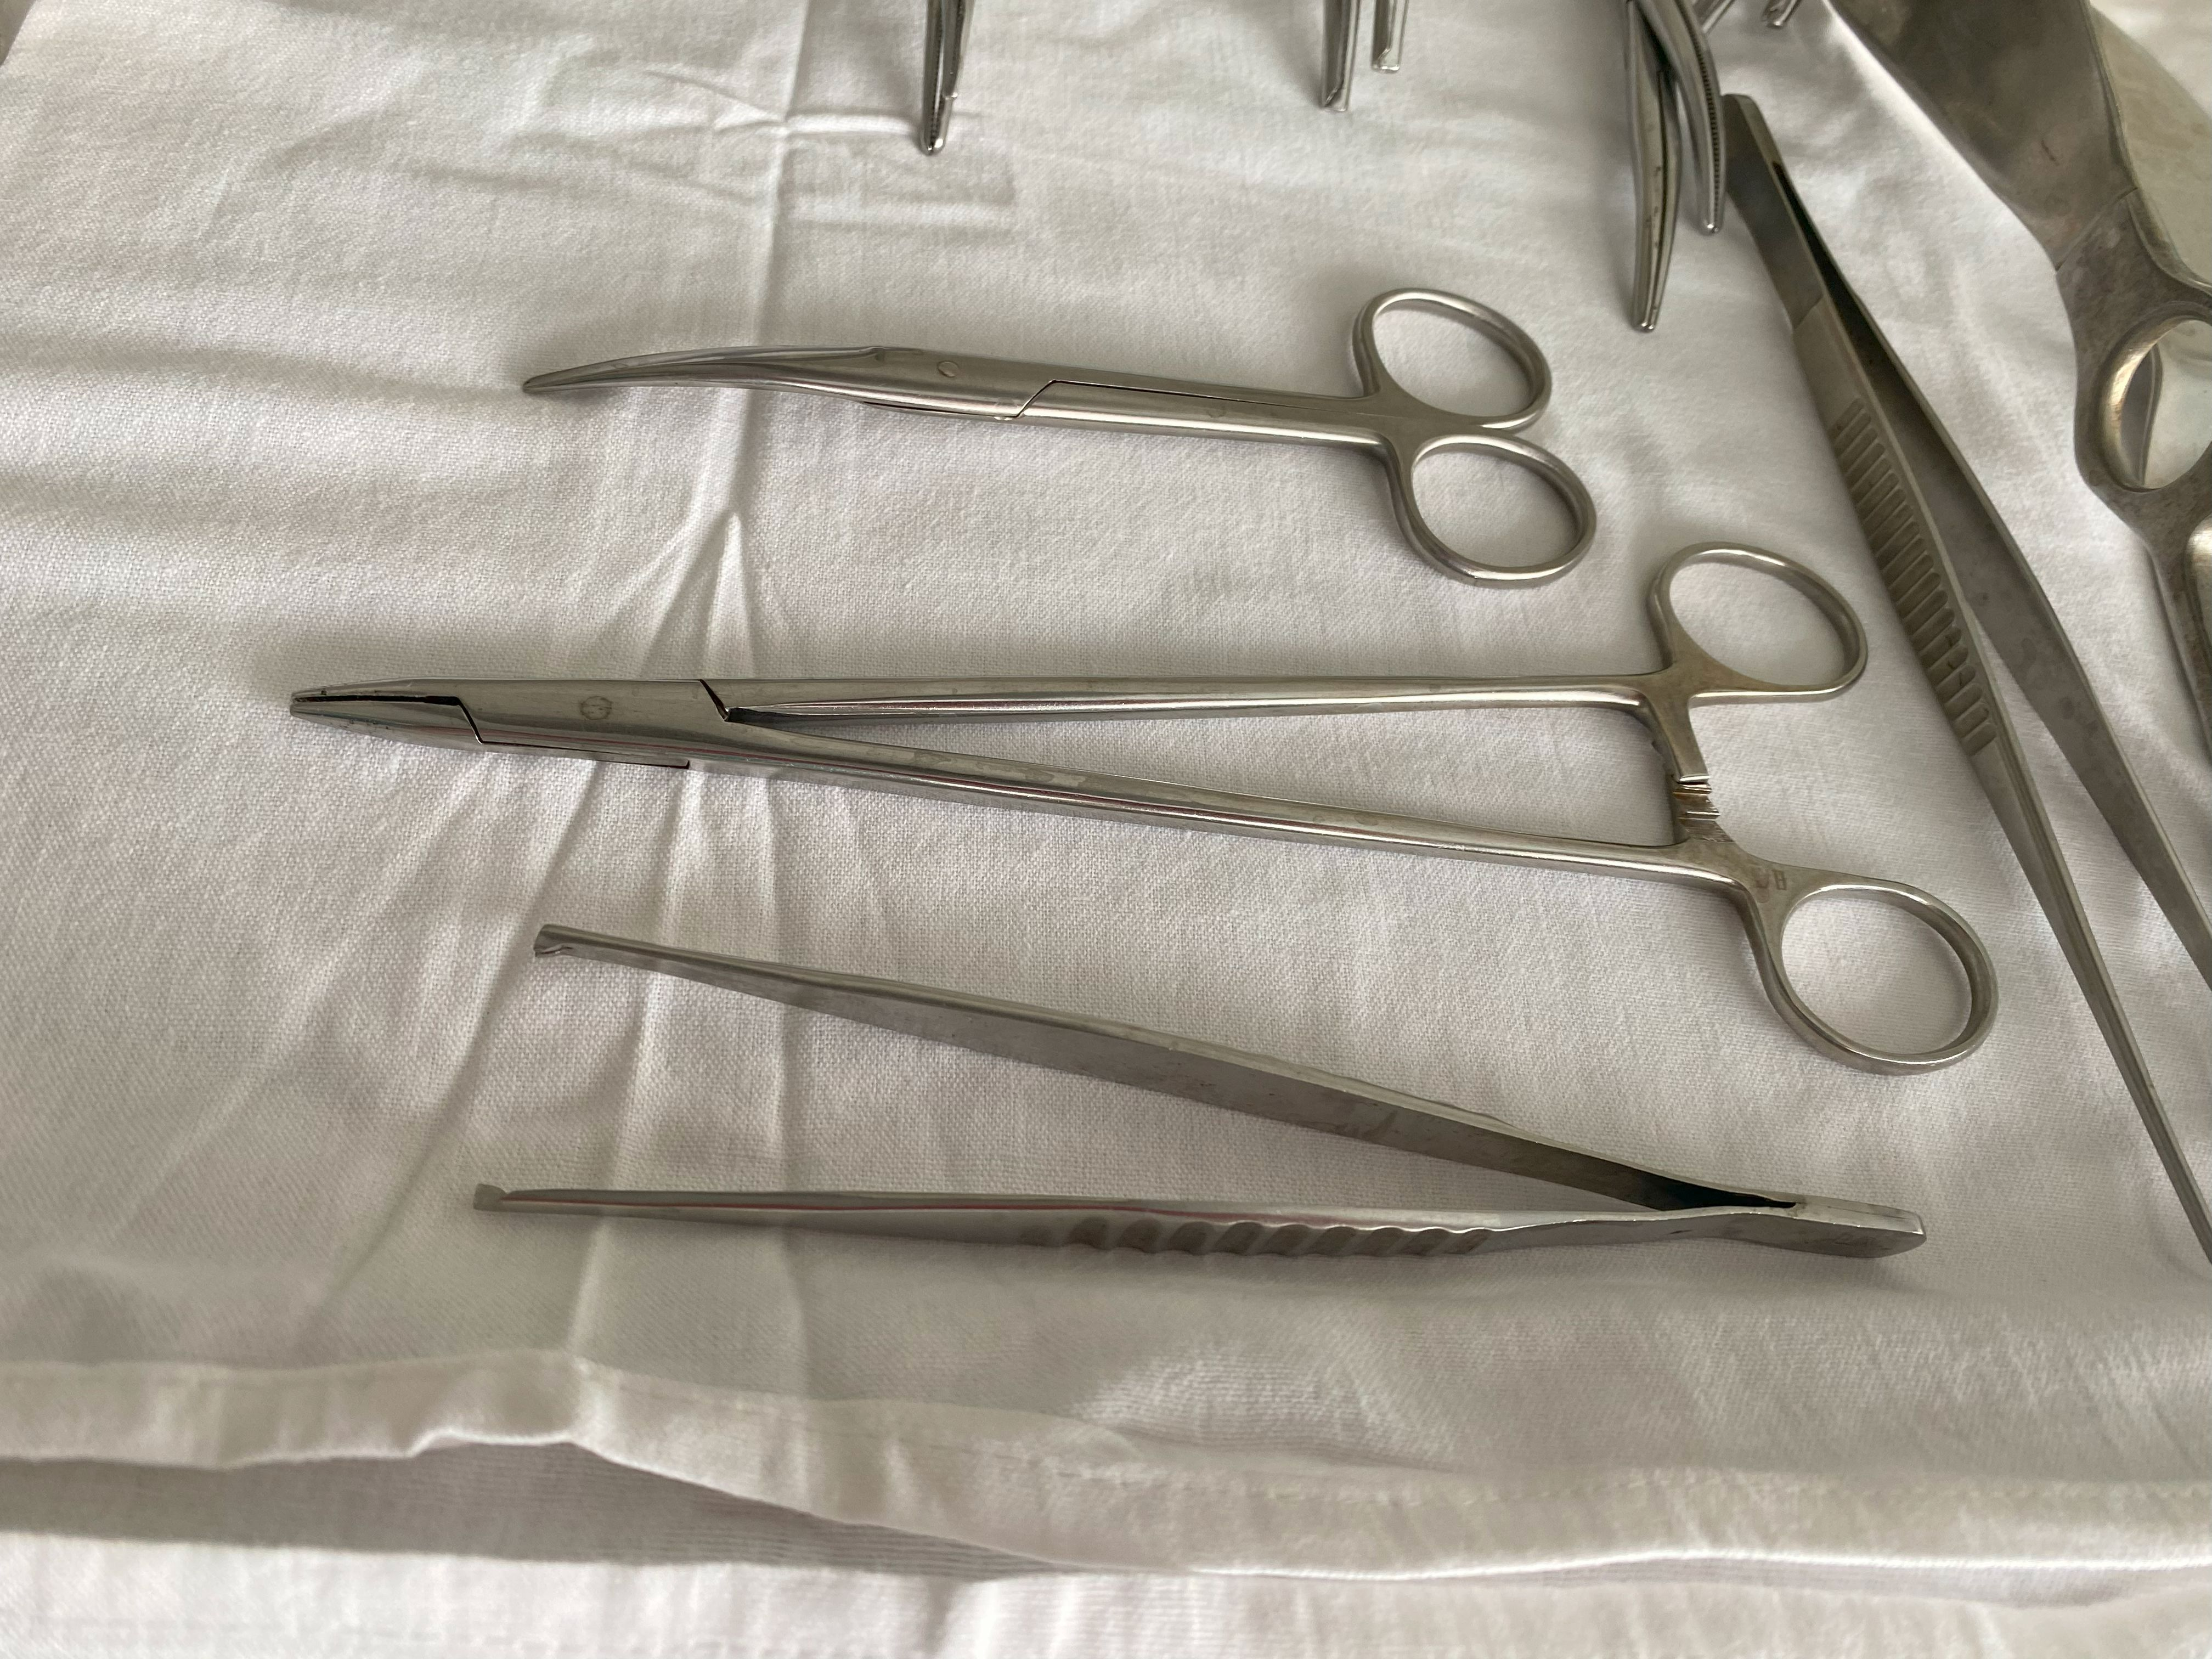clamp: (291, 544, 1998, 1072)
scissors: (524, 289, 1595, 586)
tweezers: (1724, 96, 2212, 1258), (475, 927, 1925, 1258)
